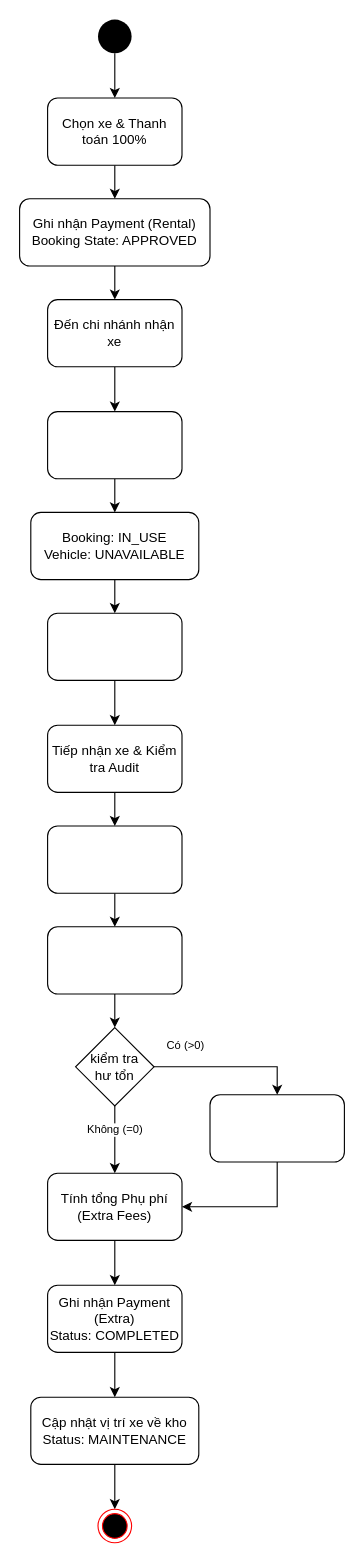
This 364x1562 diagram has some shape labels left out. The centre of each missing label's shape, as x and y in pixels:
"Kiểm tra Chi nhánh (If Wrong -> +50k)" goes at (x=114, y=859).
"Kiểm tra Thời gian (If Late -> +250k/day)" goes at (x=114, y=960).
"Kiểm tra đơn & Bàn giao xe" goes at (x=114, y=444).
"Mang xe đến chi nhánh trả" goes at (x=114, y=646).
"Nhập phí Hư tổn" goes at (x=276, y=1128).
